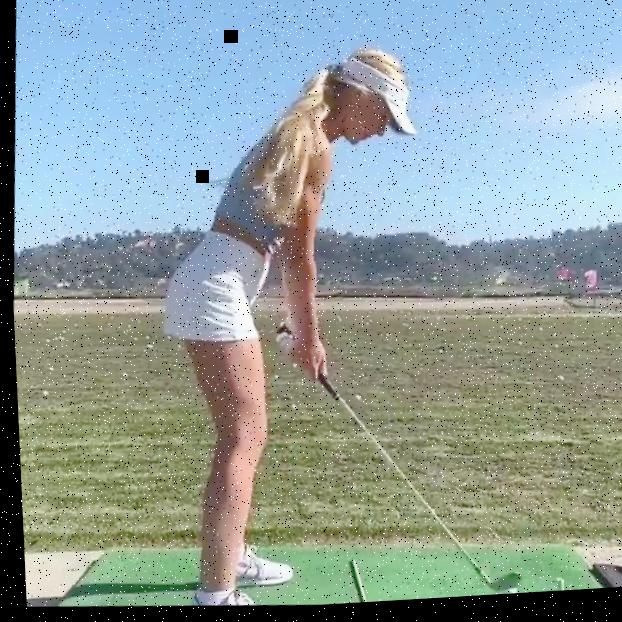ClubHead: (486, 574, 513, 594)
GolfBall: (496, 591, 512, 600)
